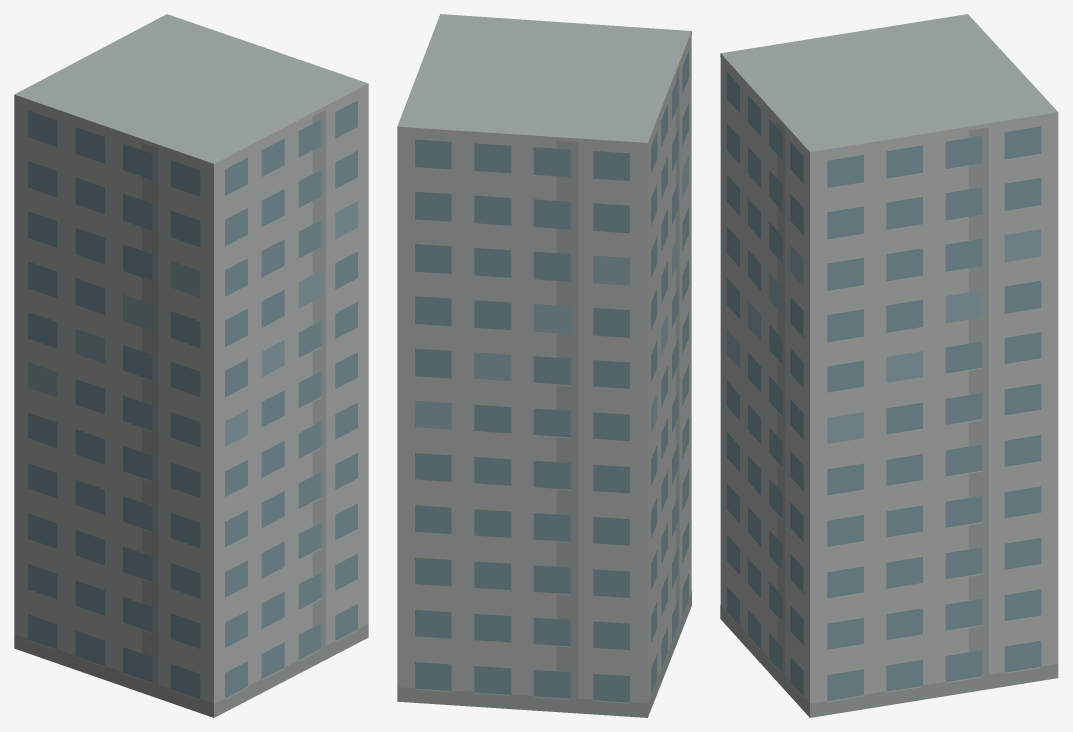
Rendered from survey-upis-32844047.glb.
The picture shows the model from 3 angles, left to right: view 1: azimuth 30°, elevation 25°; view 2: azimuth 150°, elevation 25°; view 3: azimuth 270°, elevation 25°; orthographic projection. The views are drawn at different scales.
Parts seen in each view (by area): view 1: survey-upis-32844047.tmp; view 2: survey-upis-32844047.tmp; view 3: survey-upis-32844047.tmp.
Part boxes in pixels (x1,y1,x2,y2): survey-upis-32844047.tmp: (14, 14, 368, 717); survey-upis-32844047.tmp: (397, 14, 691, 717); survey-upis-32844047.tmp: (720, 14, 1058, 717).
Bounding box in the file's own units: 18.05 × 34.45 × 18.66.
